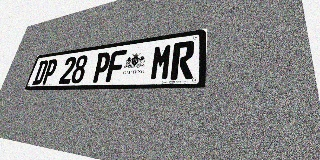2: (58, 56, 77, 84)
8: (70, 54, 89, 83)
D: (32, 60, 49, 85)
F: (105, 49, 127, 82)
M: (149, 43, 173, 80)
P: (91, 51, 112, 83), (41, 59, 59, 85)
R: (170, 40, 195, 80)
